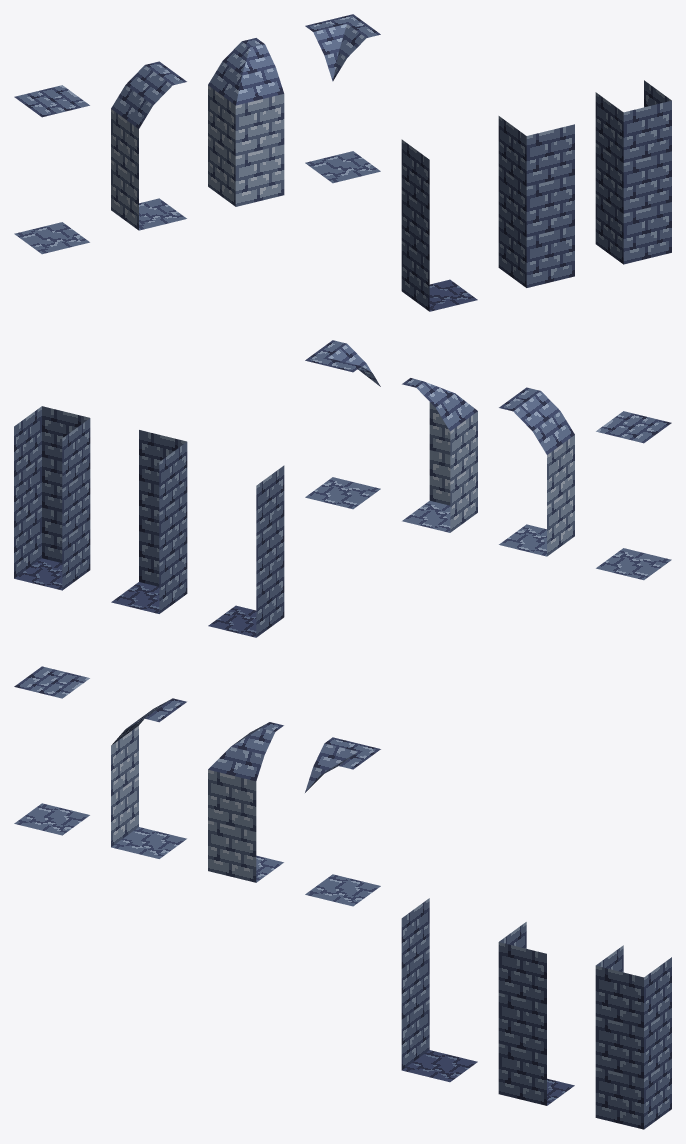
Rendered from walls-tiles.glb.
3 views of the same model, one above another, from view 1: azimuth 30°, elevation 25°; view 2: azimuth 150°, elevation 25°; view 3: azimuth 330°, elevation 25° (orthographic).
Visible parts, largest first — view 1: Hole-UTurn-col, Hole-Corner-col, Wall-Corner-col, Wall-Side-col, Hole-Side-col, Wall-Outer-col, Ground-col, Ceiling-col; view 2: Hole-UTurn-col, Hole-Corner-col, Wall-Corner-col, Wall-Side-col, Hole-Side-col, Wall-Outer-col, Ground-col, Ceiling-col; view 3: Hole-UTurn-col, Hole-Corner-col, Wall-Corner-col, Hole-Side-col, Wall-Side-col, Wall-Outer-col, Ceiling-col, Ground-col.
Part boxes in pixels (bbox=[...]): Hole-UTurn-col: bbox=[595, 80, 671, 264]; Hole-Corner-col: bbox=[498, 116, 574, 287]; Wall-Corner-col: bbox=[208, 38, 284, 206]; Wall-Side-col: bbox=[111, 61, 186, 230]; Hole-Side-col: bbox=[401, 139, 477, 311]; Wall-Outer-col: bbox=[305, 14, 380, 183]; Ground-col: bbox=[14, 222, 89, 254]; Ceiling-col: bbox=[14, 85, 89, 117]; Hole-UTurn-col: bbox=[14, 406, 90, 590]; Hole-Corner-col: bbox=[111, 430, 187, 613]; Wall-Corner-col: bbox=[402, 378, 477, 532]; Wall-Side-col: bbox=[499, 387, 574, 556]; Hole-Side-col: bbox=[208, 465, 284, 637]; Wall-Outer-col: bbox=[305, 340, 380, 509]; Ground-col: bbox=[596, 548, 671, 580]; Ceiling-col: bbox=[596, 411, 671, 443]; Hole-UTurn-col: bbox=[595, 945, 671, 1129]; Hole-Corner-col: bbox=[498, 922, 574, 1105]; Wall-Corner-col: bbox=[208, 722, 283, 882]; Hole-Side-col: bbox=[401, 898, 477, 1082]; Wall-Side-col: bbox=[111, 698, 186, 858]; Wall-Outer-col: bbox=[305, 737, 380, 906]; Ceiling-col: bbox=[14, 666, 89, 698]; Ground-col: bbox=[14, 803, 89, 835].
Bounding box in the file's own units: 13 × 5.7 × 1.
1 material, 1 textured.
